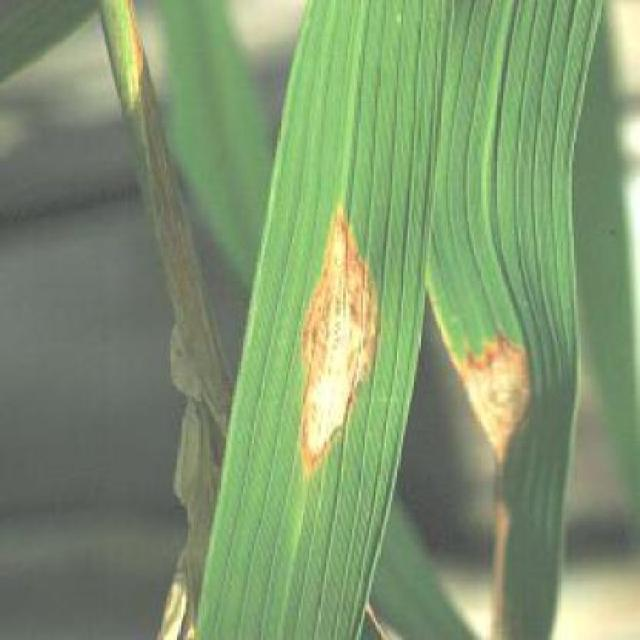Bacterial_Leaf_Blight: (264, 200, 390, 497), (427, 326, 570, 483), (327, 596, 488, 639)
